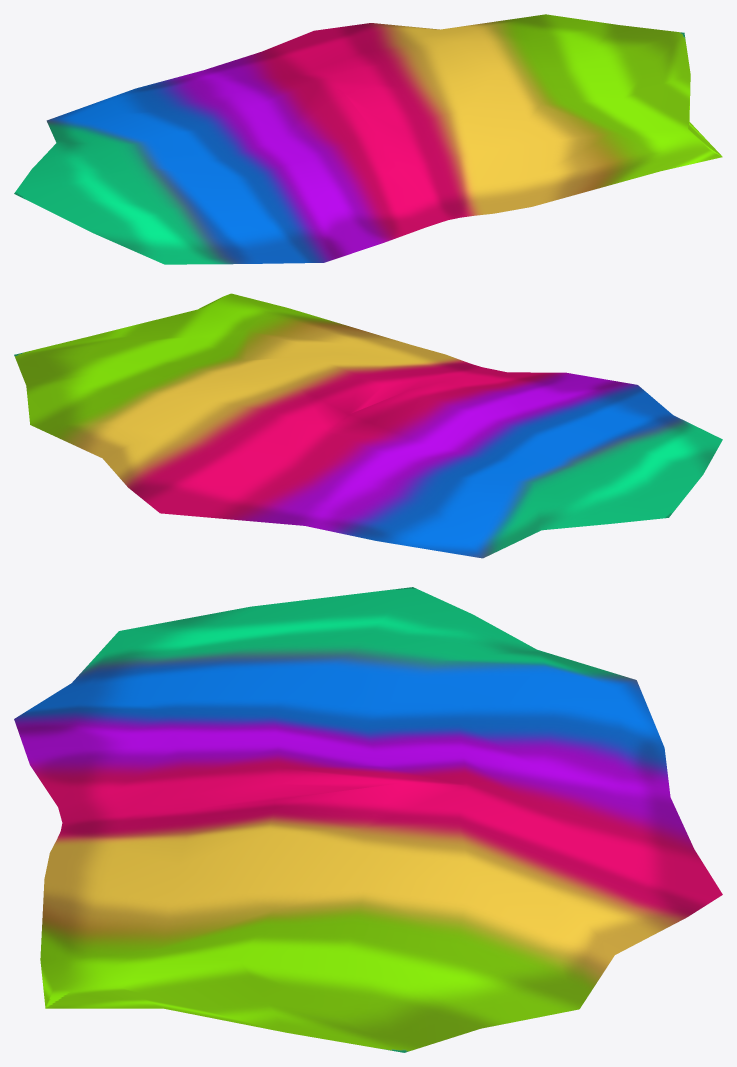
File: ParachuteDone.fbx
The picture shows the model from 3 angles, top to bottom: view 1: azimuth 30°, elevation 25°; view 2: azimuth 150°, elevation 25°; view 3: azimuth 270°, elevation 25°; orthographic projection. The views are drawn at different scales.
Visible parts, largest first — view 1: PARACHUTE; view 2: PARACHUTE; view 3: PARACHUTE.
Part boxes in pixels (box(x1,y1,x2,y2)): PARACHUTE: box(14, 14, 722, 264); PARACHUTE: box(14, 293, 722, 558); PARACHUTE: box(14, 587, 722, 1052).
Bounding box in the file's own units: 20.76 × 1.2 × 13.34.
Materials: 1 (1 with a texture image).
